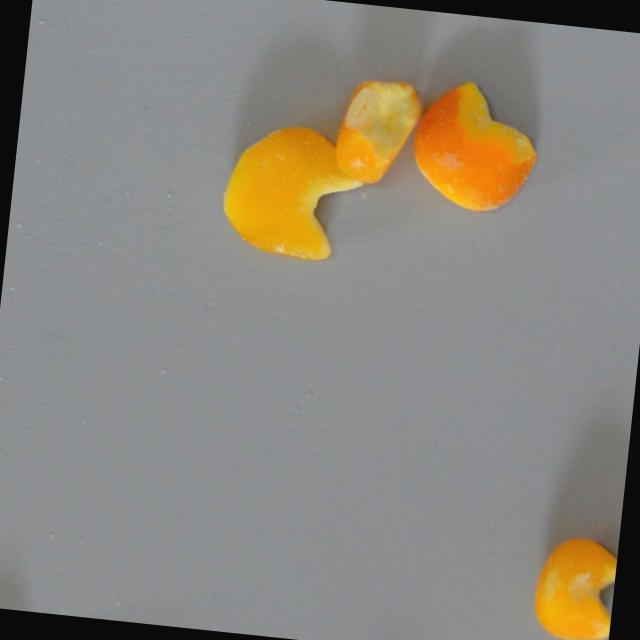pelicula: (219, 119, 364, 261), (408, 73, 544, 214), (331, 70, 422, 185), (528, 532, 619, 640)
